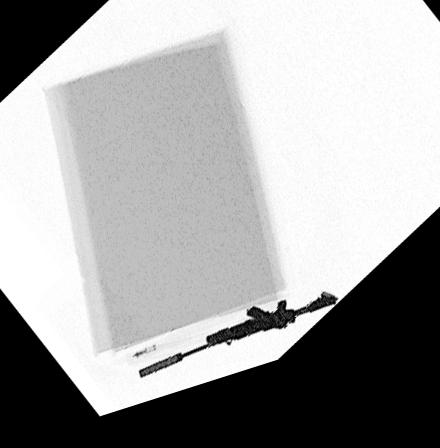Gun: (138, 311, 338, 387)
